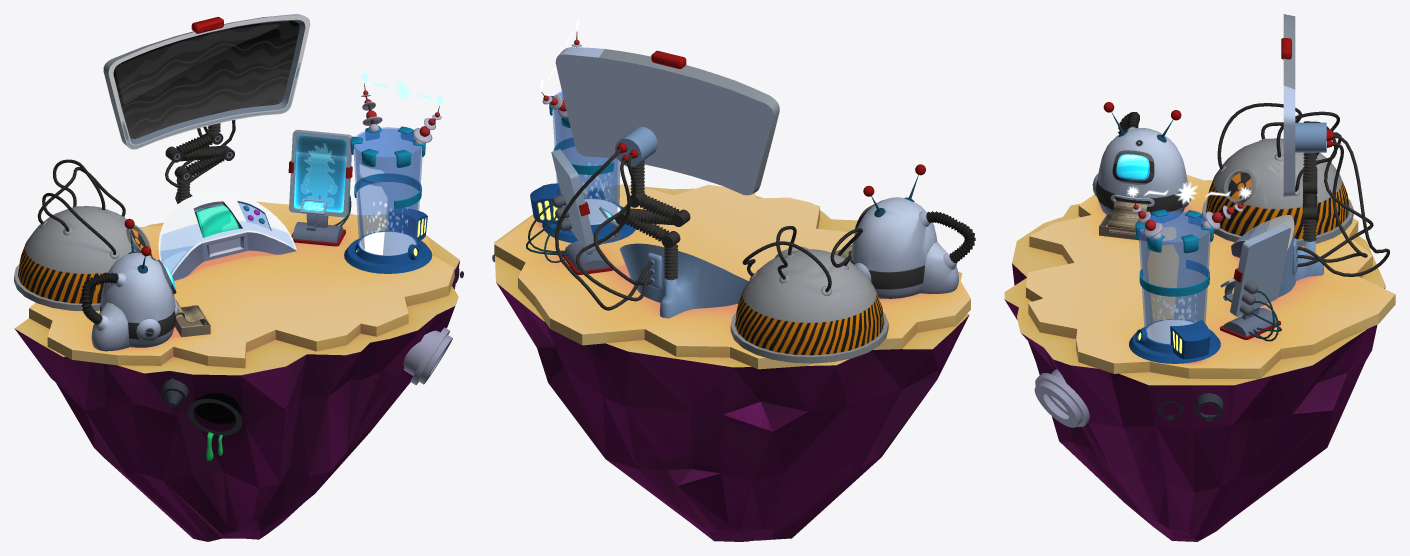
File: cyberpunk-bar-2.glb
3 renders of one model, left to right at view 1: azimuth 30°, elevation 25°; view 2: azimuth 150°, elevation 25°; view 3: azimuth 270°, elevation 25°, orthographic. The views are drawn at different scales.
Parts seen in each view (by area): view 1: Object_20.003, Object_13.002, Object_6.002, Object_14.002, Object_23.002, Object_25.002, Object_18.002, Object_16.002, Object_7.002, Object_17.002, Object_21.002, Object_22.002; view 2: Object_20.003, Object_13.002, Object_6.002, Object_14.002, Object_23.002, Object_16.002, Object_25.002, Object_18.002; view 3: Object_20.003, Object_6.002, Object_14.002, Object_13.002, Object_23.002, Object_18.002, Object_25.002, Object_16.002, Object_7.002, Object_17.002, Object_21.002, Object_22.002.
Boxes of the visible parts, bbox=[...] form: Object_20.003: bbox=[14, 213, 459, 541]; Object_13.002: bbox=[103, 14, 310, 280]; Object_6.002: bbox=[29, 201, 454, 358]; Object_14.002: bbox=[14, 159, 152, 311]; Object_23.002: bbox=[81, 218, 206, 351]; Object_25.002: bbox=[344, 83, 441, 273]; Object_18.002: bbox=[353, 127, 422, 255]; Object_16.002: bbox=[288, 129, 352, 246]; Object_7.002: bbox=[403, 327, 452, 384]; Object_17.002: bbox=[360, 72, 443, 243]; Object_21.002: bbox=[187, 268, 463, 435]; Object_22.002: bbox=[174, 305, 210, 337]; Object_20.003: bbox=[494, 186, 970, 541]; Object_13.002: bbox=[555, 47, 779, 318]; Object_6.002: bbox=[494, 184, 970, 358]; Object_14.002: bbox=[730, 226, 888, 363]; Object_23.002: bbox=[835, 164, 975, 298]; Object_16.002: bbox=[526, 149, 621, 274]; Object_25.002: bbox=[530, 32, 636, 243]; Object_18.002: bbox=[552, 91, 620, 224]; Object_20.003: bbox=[1004, 180, 1395, 541]; Object_6.002: bbox=[1026, 174, 1395, 368]; Object_14.002: bbox=[1202, 103, 1353, 246]; Object_13.002: bbox=[1231, 14, 1389, 297]; Object_23.002: bbox=[1092, 102, 1191, 232]; Object_18.002: bbox=[1138, 211, 1210, 344]; Object_25.002: bbox=[1129, 198, 1245, 363]; Object_16.002: bbox=[1220, 224, 1290, 341]; Object_7.002: bbox=[1034, 369, 1089, 427]; Object_17.002: bbox=[1127, 182, 1251, 329]; Object_21.002: bbox=[1157, 393, 1223, 421]; Object_22.002: bbox=[1099, 213, 1150, 240].
Size of the model in its own units: 1.62 by 1.77 by 1.26.
Materials: 13 (9 with a texture image).
